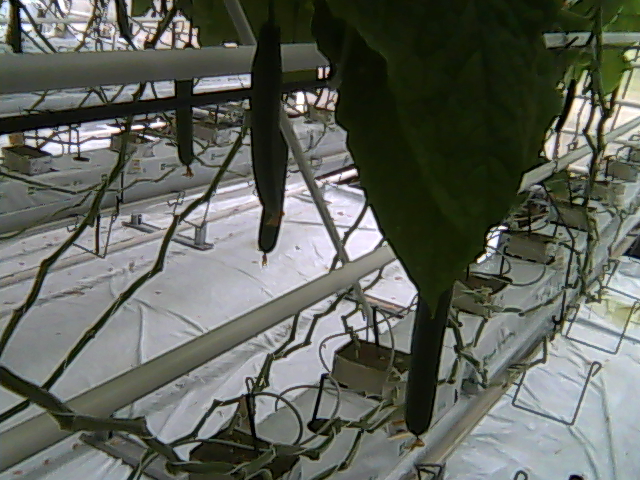concombre: (403, 274, 459, 452), (248, 11, 292, 230)
